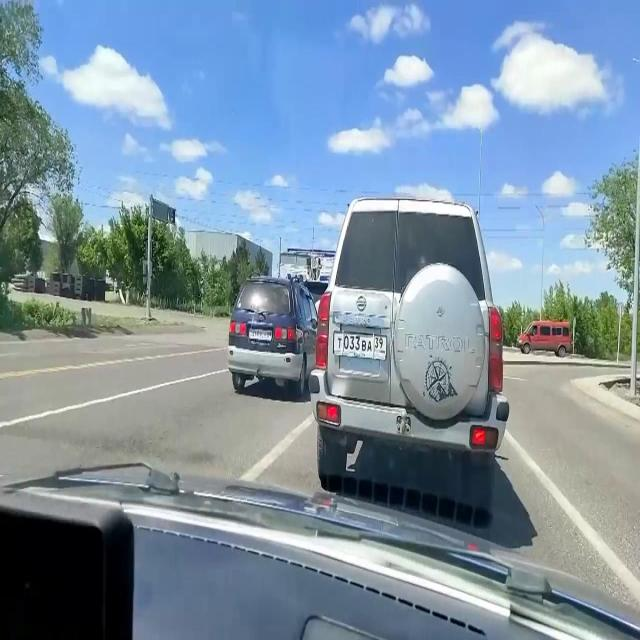car: (308, 194, 509, 506), (227, 274, 319, 396), (516, 318, 572, 358)
license: (333, 330, 387, 360)
